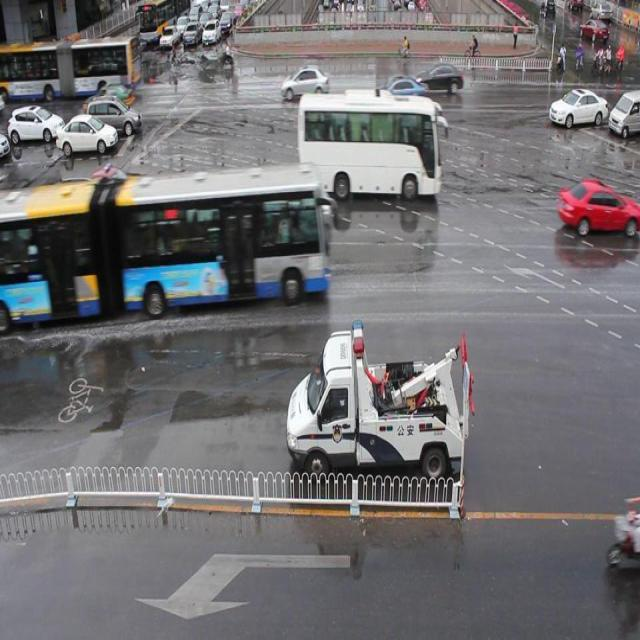BigCar: (0, 159, 322, 312), (297, 96, 448, 205), (1, 36, 142, 92), (138, 0, 161, 49)
car: (286, 315, 466, 473), (552, 171, 640, 245), (59, 115, 119, 164), (553, 88, 610, 138), (89, 90, 145, 140), (8, 99, 60, 148), (419, 57, 463, 102), (281, 61, 328, 98), (612, 91, 640, 144), (201, 19, 223, 47), (161, 22, 180, 49), (183, 20, 198, 49)
